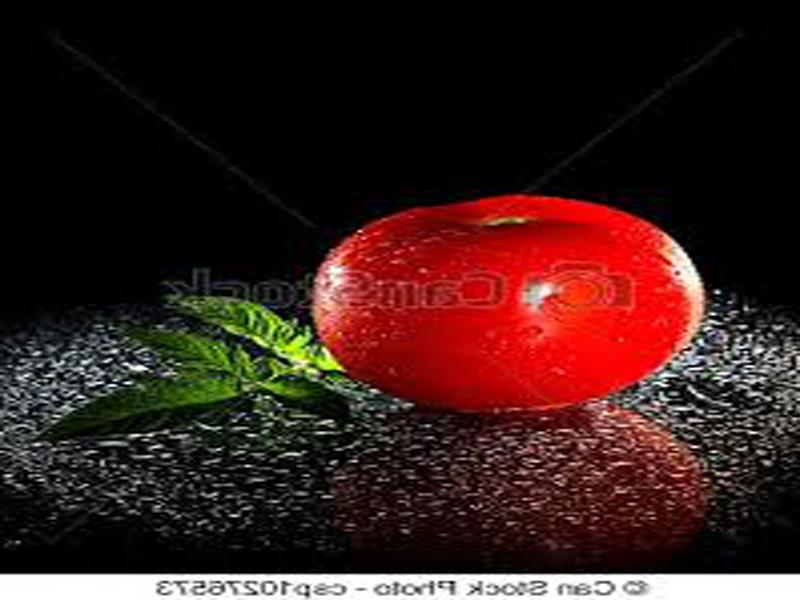Tomato: (313, 194, 703, 410)
